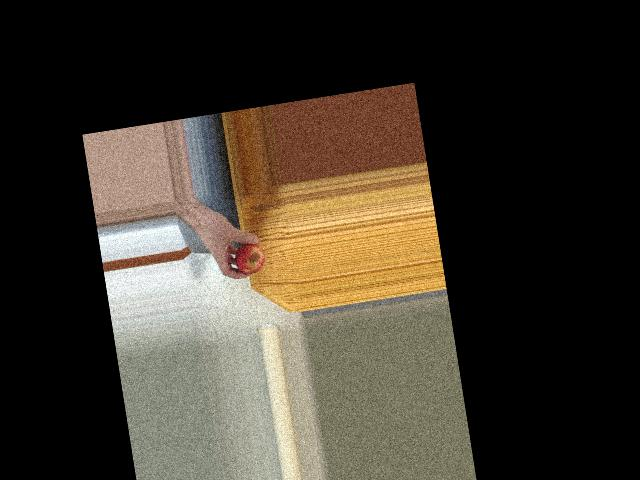apple: (232, 237, 267, 277)
